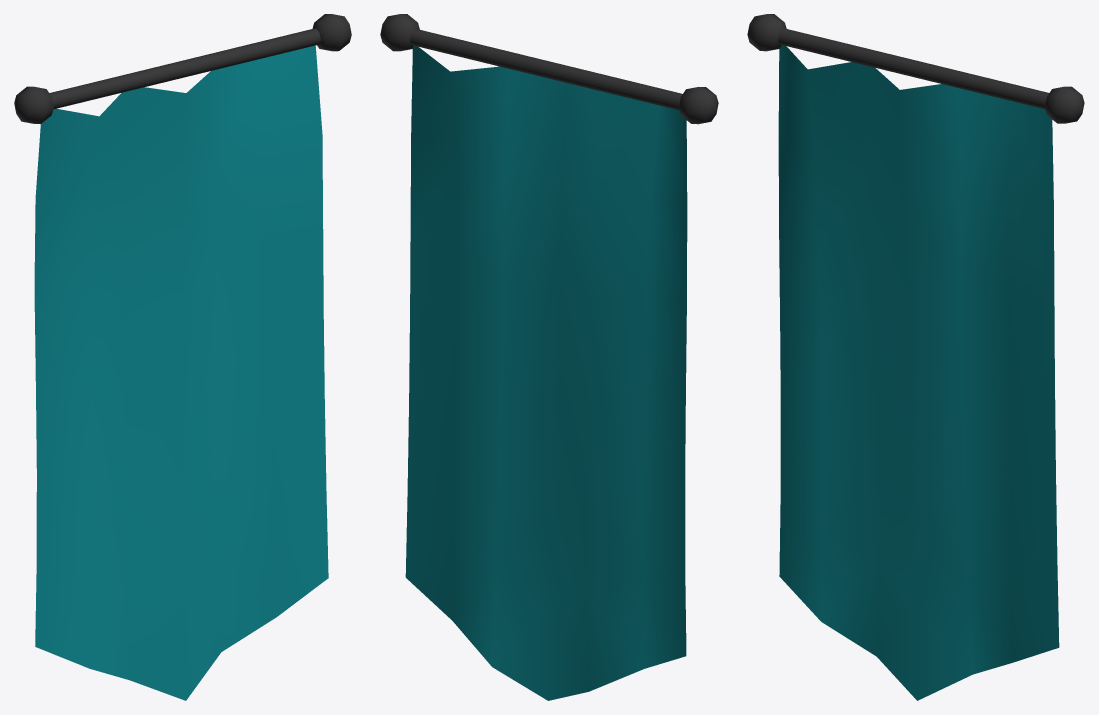
Rendered from Wall_Banner_1.fbx.
3 renders of one model, left to right at view 1: azimuth 30°, elevation 25°; view 2: azimuth 150°, elevation 25°; view 3: azimuth 330°, elevation 25°, orthographic.
Visible parts, largest first — view 1: 1_Wall_Banner_1; view 2: 1_Wall_Banner_1; view 3: 1_Wall_Banner_1.
Part boxes in pixels (x1=…): 1_Wall_Banner_1: x1=14, y1=14, x2=351, y2=700; 1_Wall_Banner_1: x1=380, y1=14, x2=718, y2=700; 1_Wall_Banner_1: x1=747, y1=14, x2=1084, y2=700.
Size of the model in its own units: 76.52 by 143 by 9.42.
